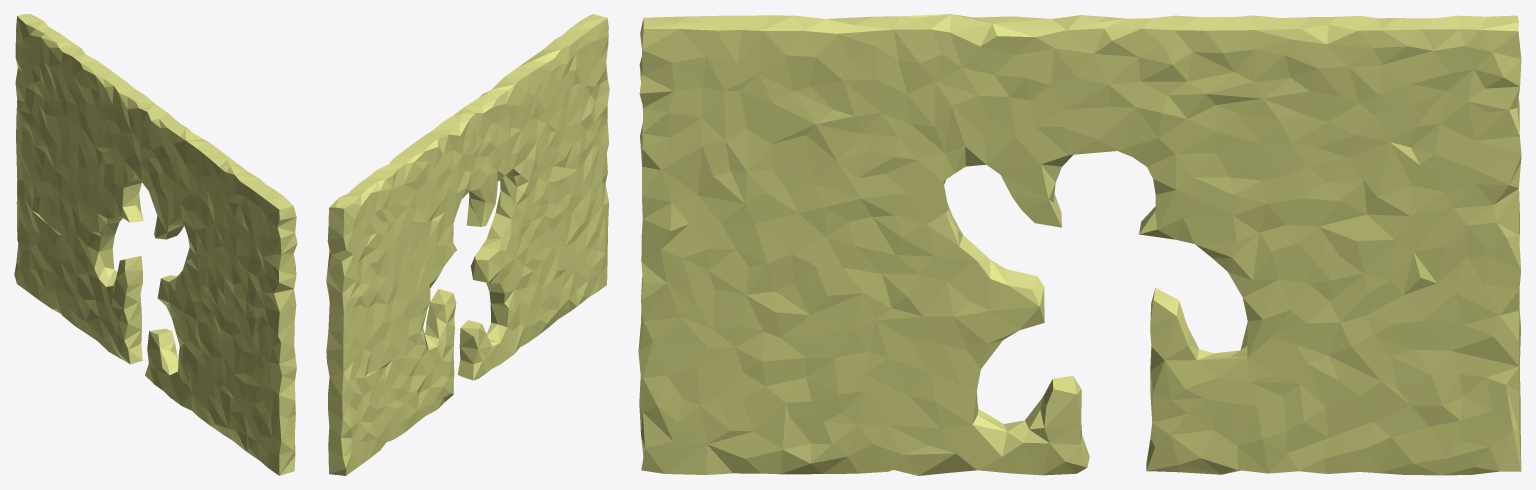
File: Wall3.fbx
3 renders of one model, left to right at view 1: azimuth 30°, elevation 25°; view 2: azimuth 150°, elevation 25°; view 3: azimuth 270°, elevation 25°, orthographic. The views are drawn at different scales.
Visible parts, largest first — view 1: FinalWall3; view 2: FinalWall3; view 3: FinalWall3.
Boxes of the visible parts, x1,y1,x2,y2 form: FinalWall3: [14, 14, 297, 475]; FinalWall3: [326, 14, 609, 475]; FinalWall3: [638, 14, 1521, 475].
Size of the model in its own units: 102 by 1207 by 2146.
